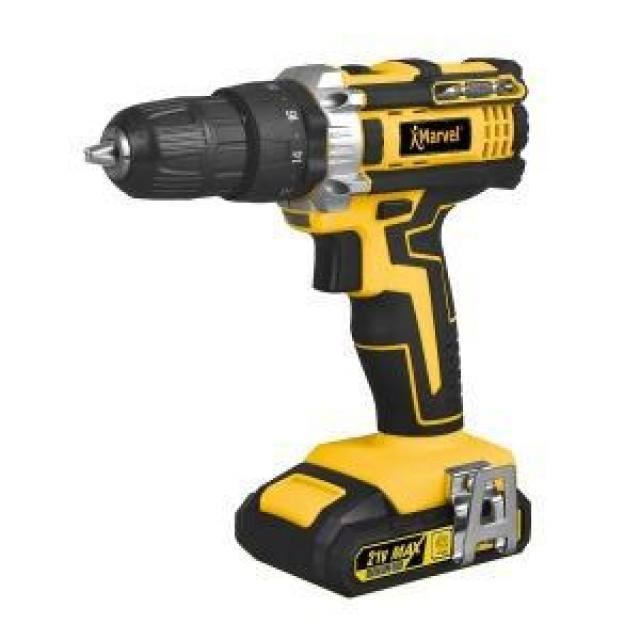drill: (83, 57, 531, 600)
